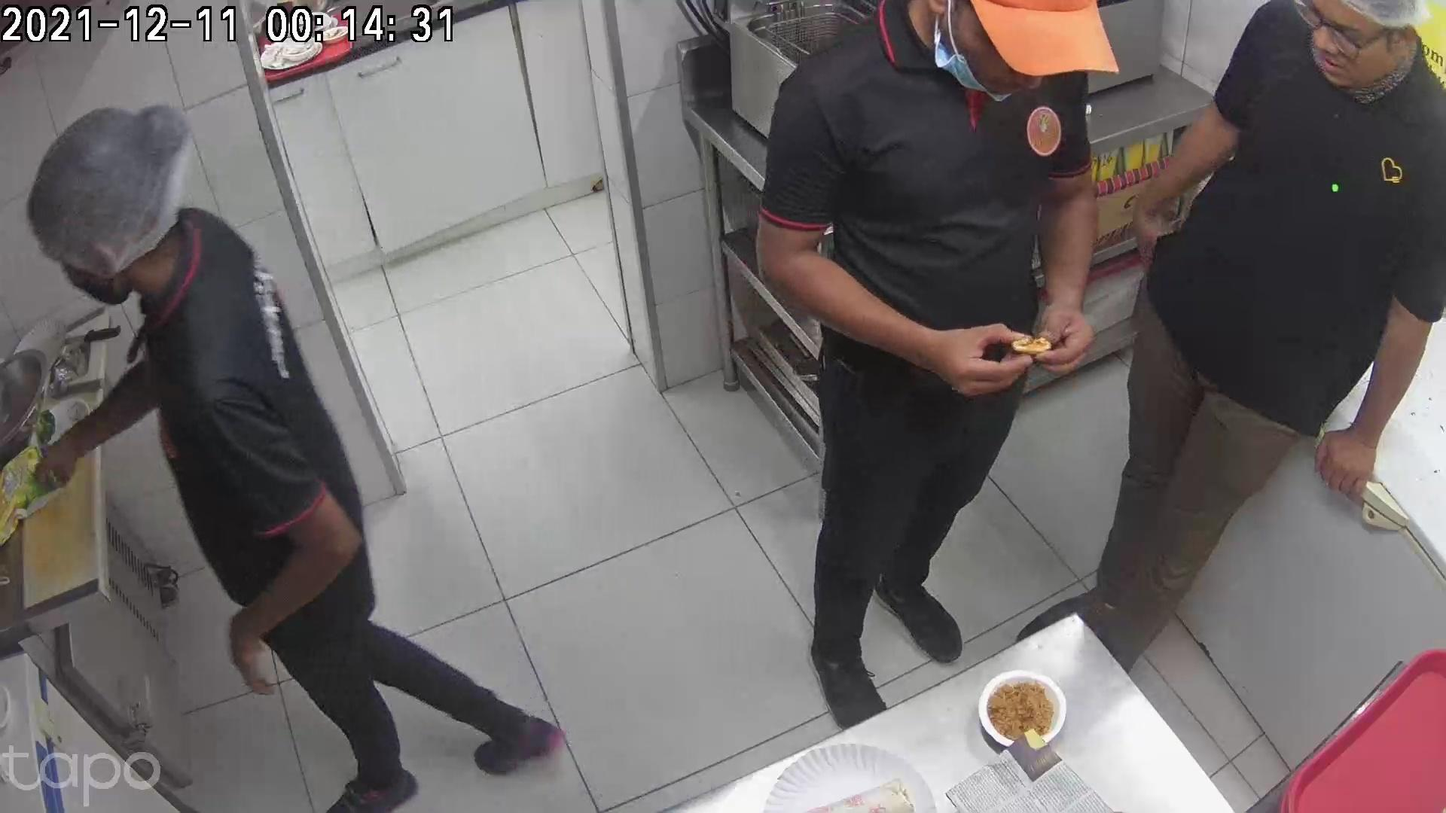no_gloves: (545, 386, 707, 467)
